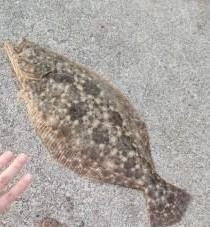fish: (4, 38, 192, 226)
